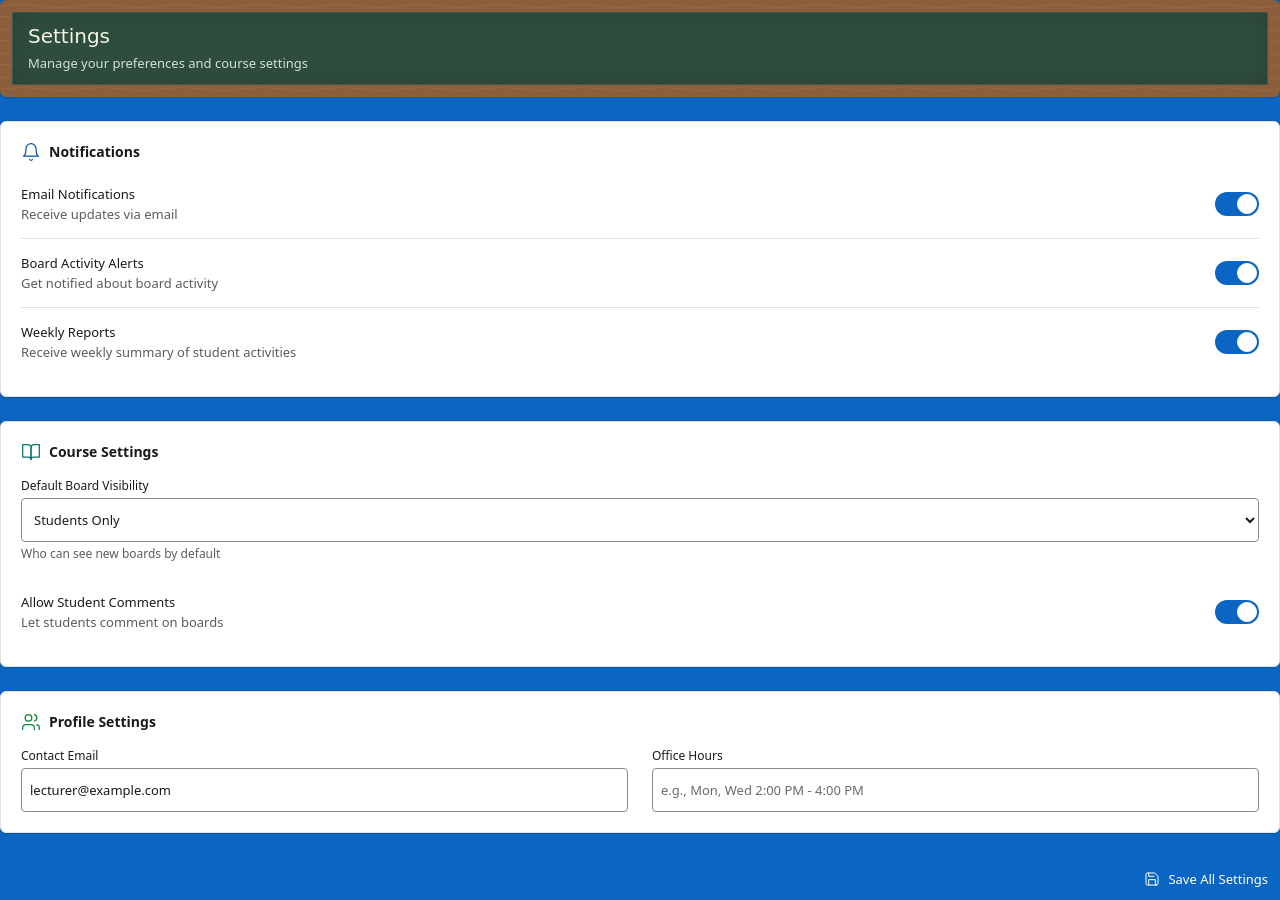
LecturerSettingsPage › saving sends the preferences and confirms
This screenshot has width=1280, height=900.
What coordinates should you click on to do the following:
click the checkbox labelled "Email Notifications"
I would click on:
 (1237, 204)
Its box is [1215, 192, 1259, 216].
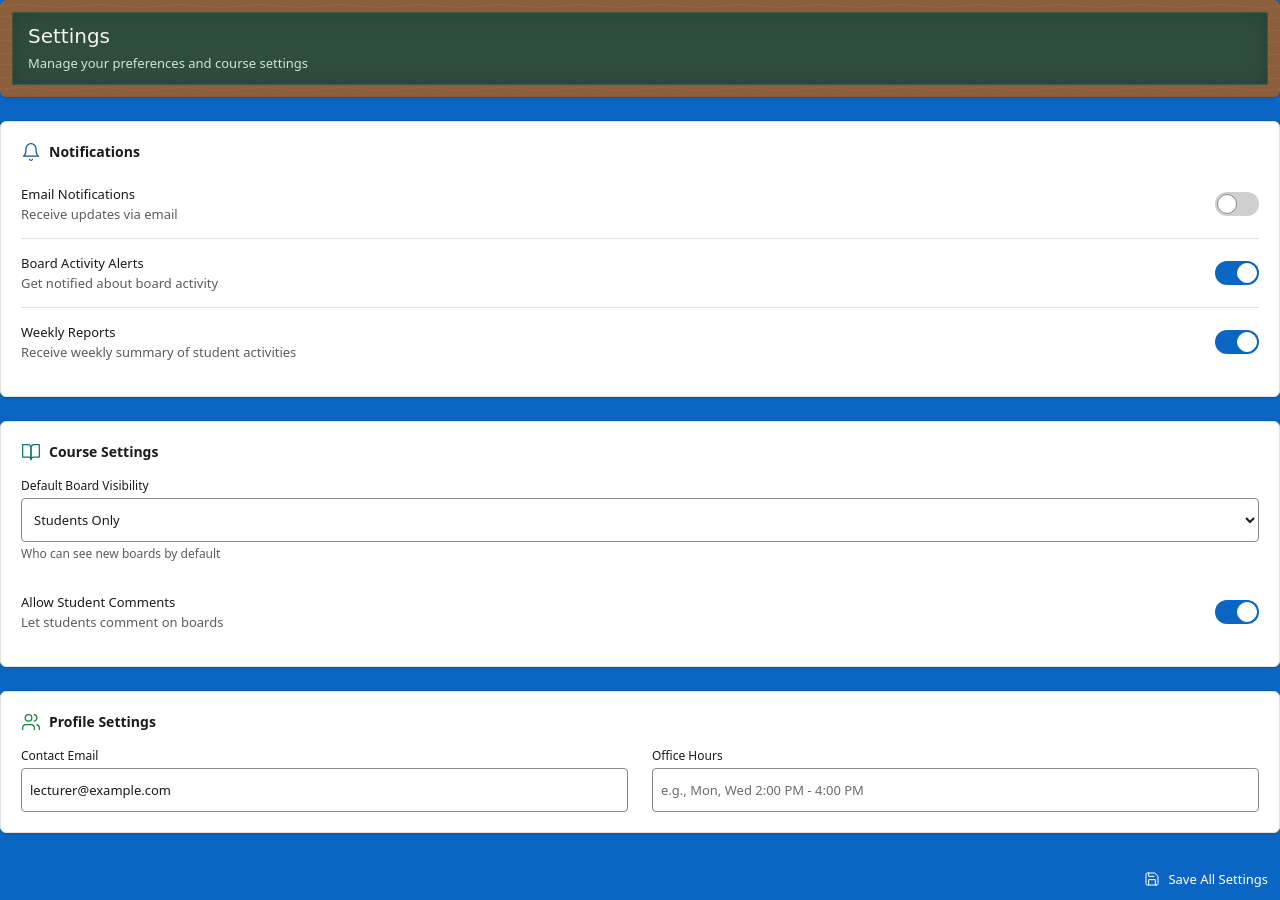
What coordinates should you click on to do the following:
click the button "Save All Settings"
I would click on:
 (1206, 879)
Its box is [1132, 857, 1279, 899].
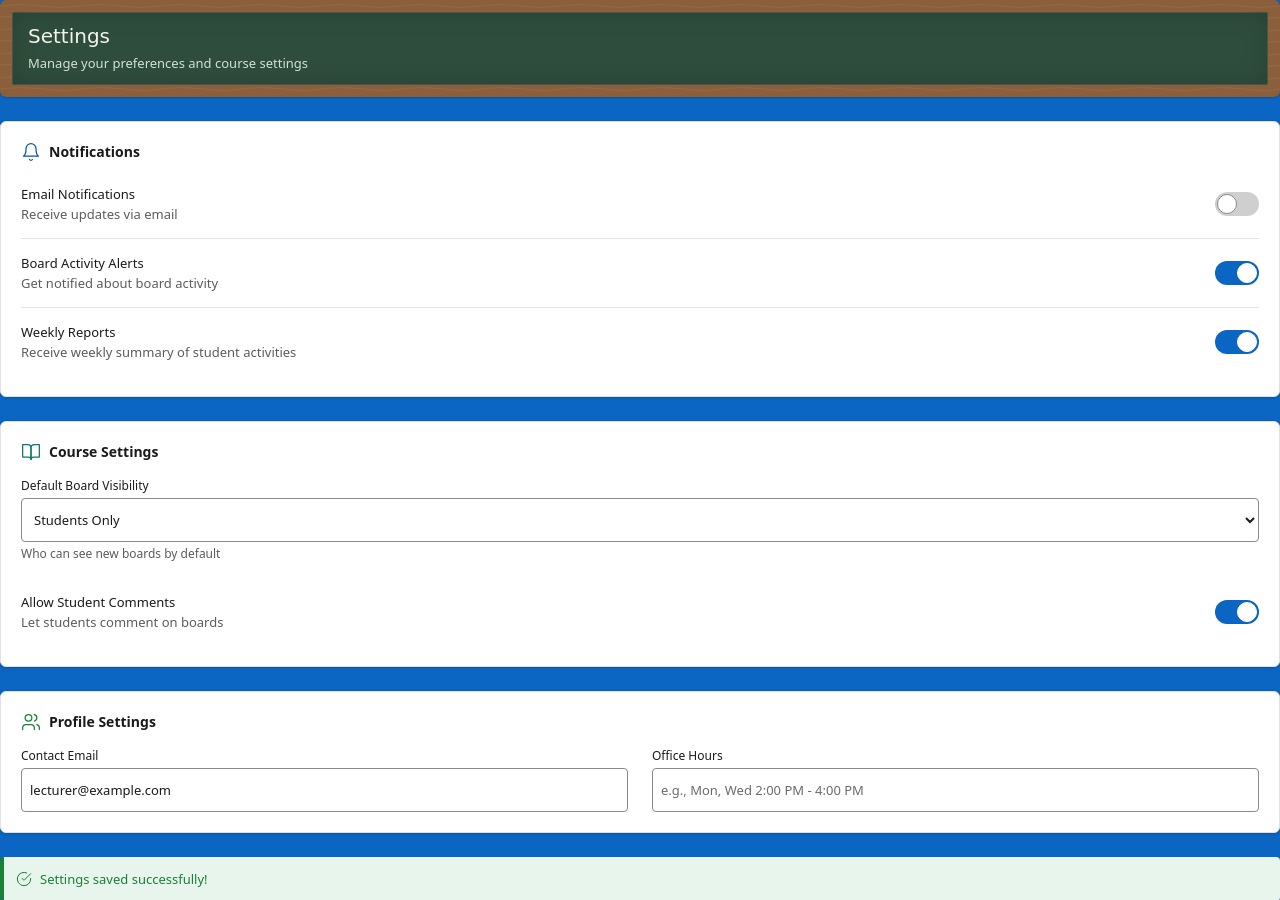
Now the text "Settings saved successfully!" is shown, box [40, 870, 208, 888]
